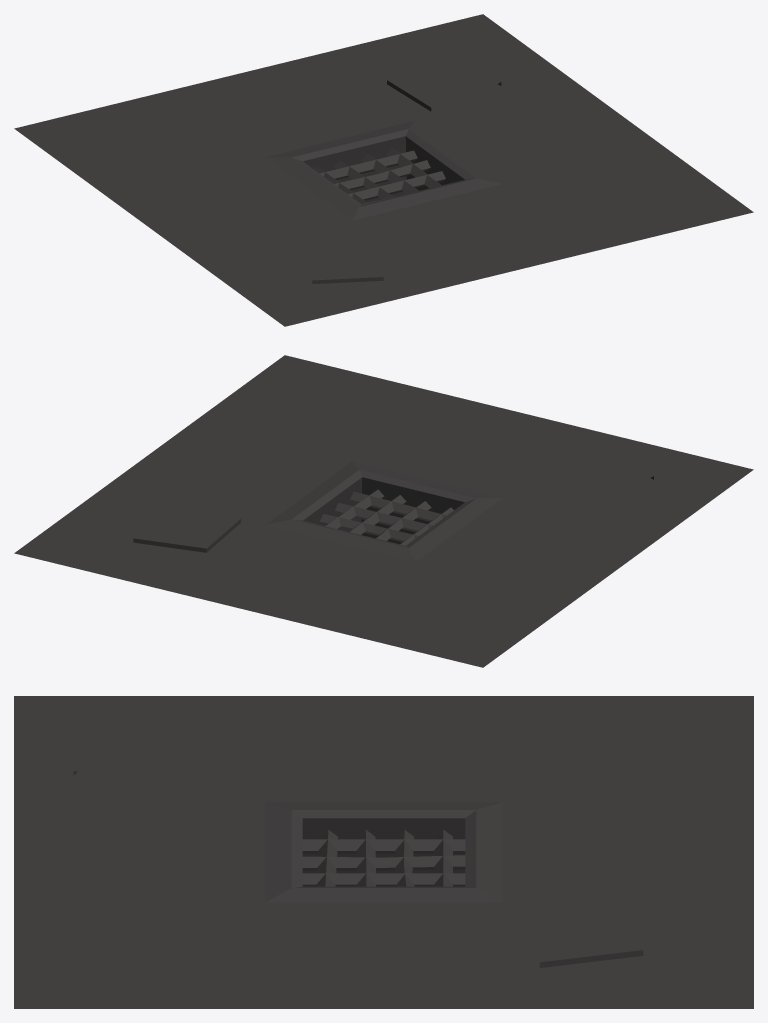
File: dungeon-floor-hole.glb
3 views of the same model, one above another, from view 1: azimuth 30°, elevation 25°; view 2: azimuth 150°, elevation 25°; view 3: azimuth 270°, elevation 25° (orthographic). The views are drawn at different scales.
Parts seen in each view (by area): view 1: dungeon-floor-hole; view 2: dungeon-floor-hole; view 3: dungeon-floor-hole.
Boxes of the visible parts, x1,y1,x2,y2 form: dungeon-floor-hole: (14, 14, 753, 326); dungeon-floor-hole: (14, 355, 753, 667); dungeon-floor-hole: (14, 696, 753, 1008).
Bounding box in the file's own units: 4 × 0.5373 × 4.
1 material, 1 textured.
